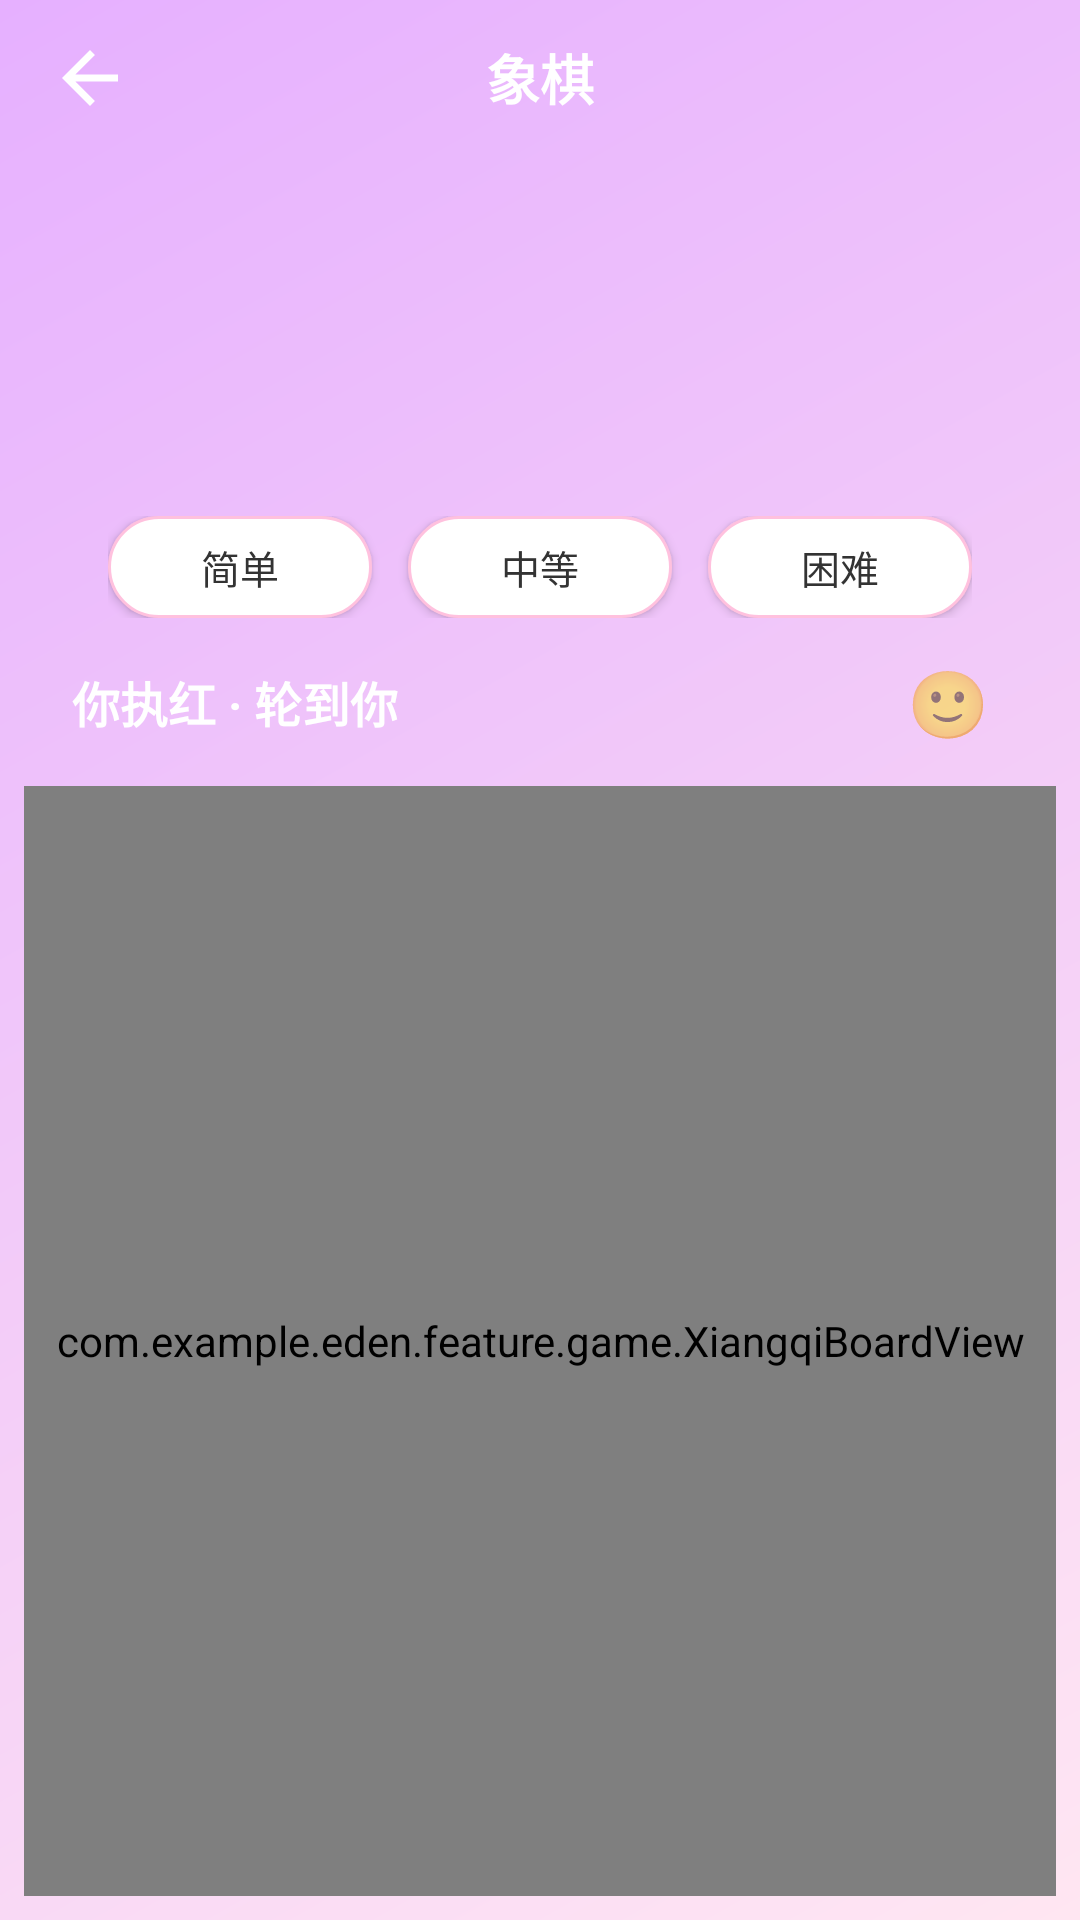

Where icons sit on this 1080 × 1920 app screen, as (left=x1, top=y1, right=x2, bottom=y2):
返回: (left=62, top=50, right=118, bottom=106)
